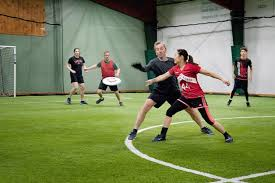disc: (102, 76, 122, 87)
